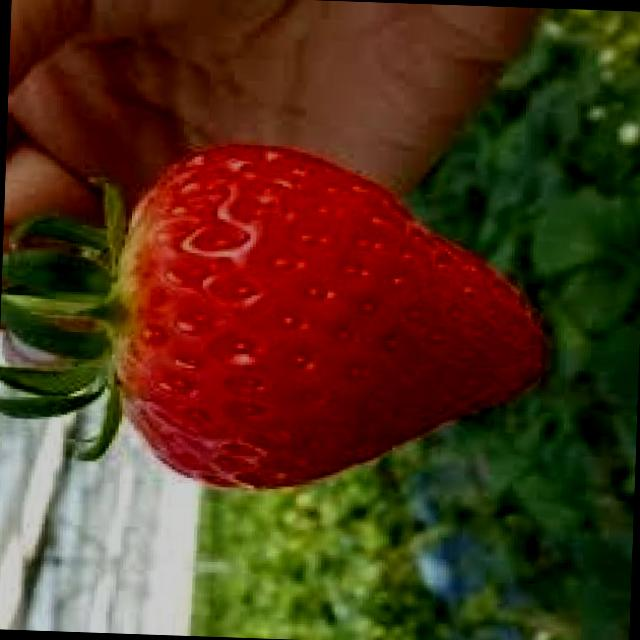Strawberry: (102, 138, 552, 504)
